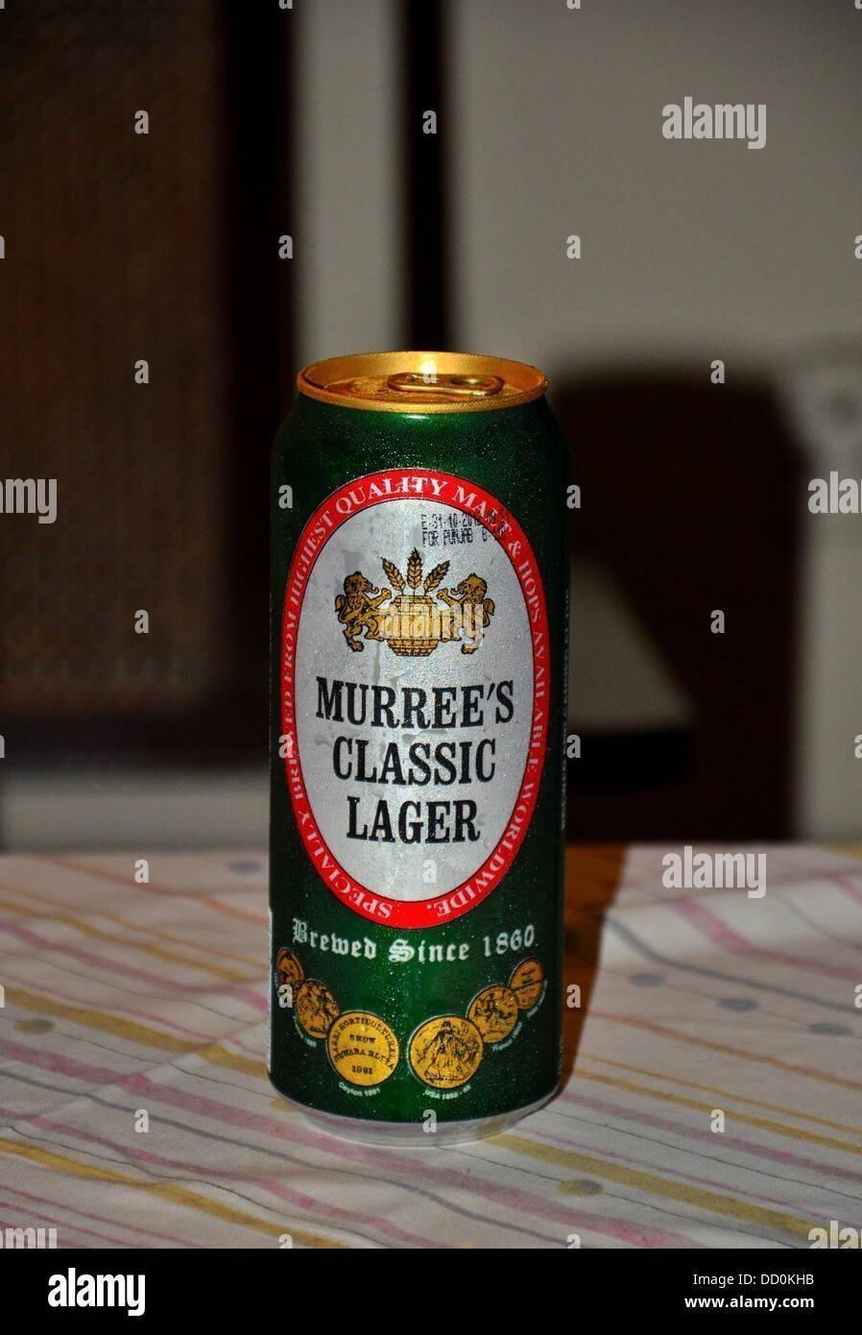tin can: (262, 351, 574, 1144)
